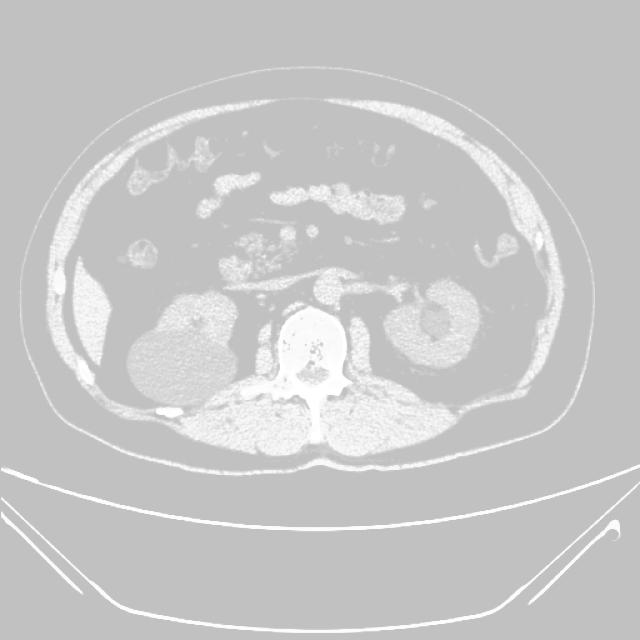cysts: (39, 81, 575, 471)
